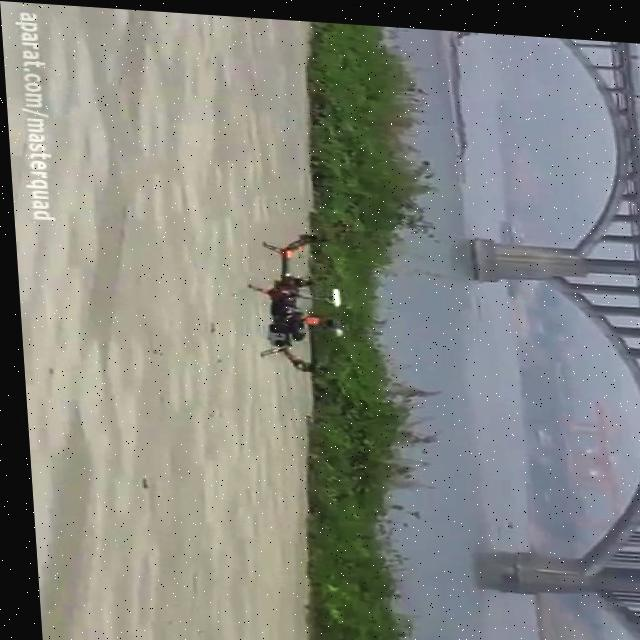drone: (238, 213, 349, 378)
